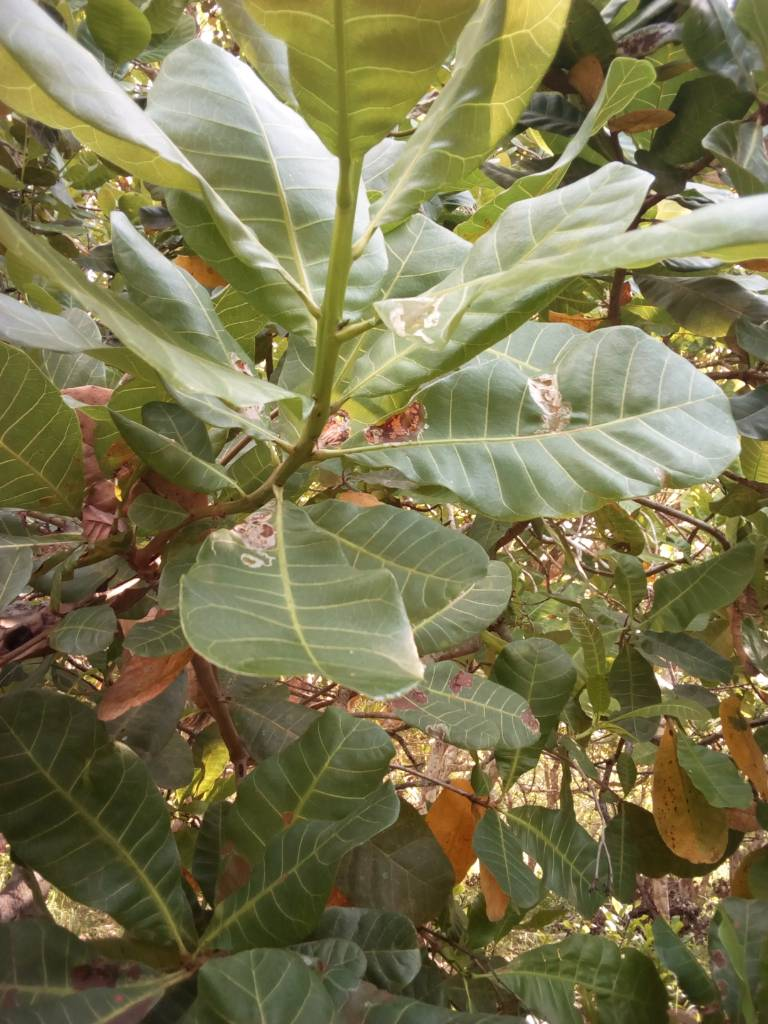Dysdercus wolkerii: (157, 483, 441, 707)
